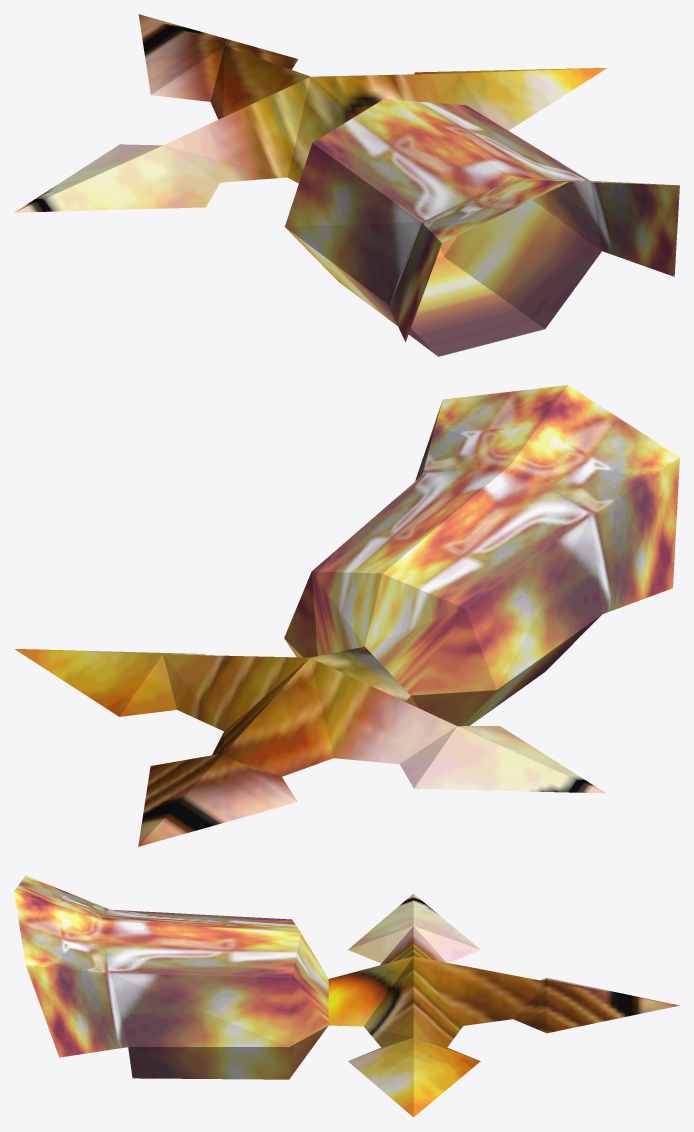
The model's file is twinblade101_3.obj.
The picture shows the model from 3 angles, top to bottom: view 1: azimuth 30°, elevation 25°; view 2: azimuth 150°, elevation 25°; view 3: azimuth 270°, elevation 25°; orthographic projection. The views are drawn at different scales.
Visible parts, largest first — view 1: MDL_cwdhkn01_3r; view 2: MDL_cwdhkn01_3r; view 3: MDL_cwdhkn01_3r.
Part boxes in pixels (x1=…): MDL_cwdhkn01_3r: x1=14, y1=14, x2=679, y2=356; MDL_cwdhkn01_3r: x1=15, y1=385, x2=679, y2=846; MDL_cwdhkn01_3r: x1=14, y1=875, x2=679, y2=1117.
Bounding box in the file's own units: 0.4525 × 0.1587 × 0.5687.
